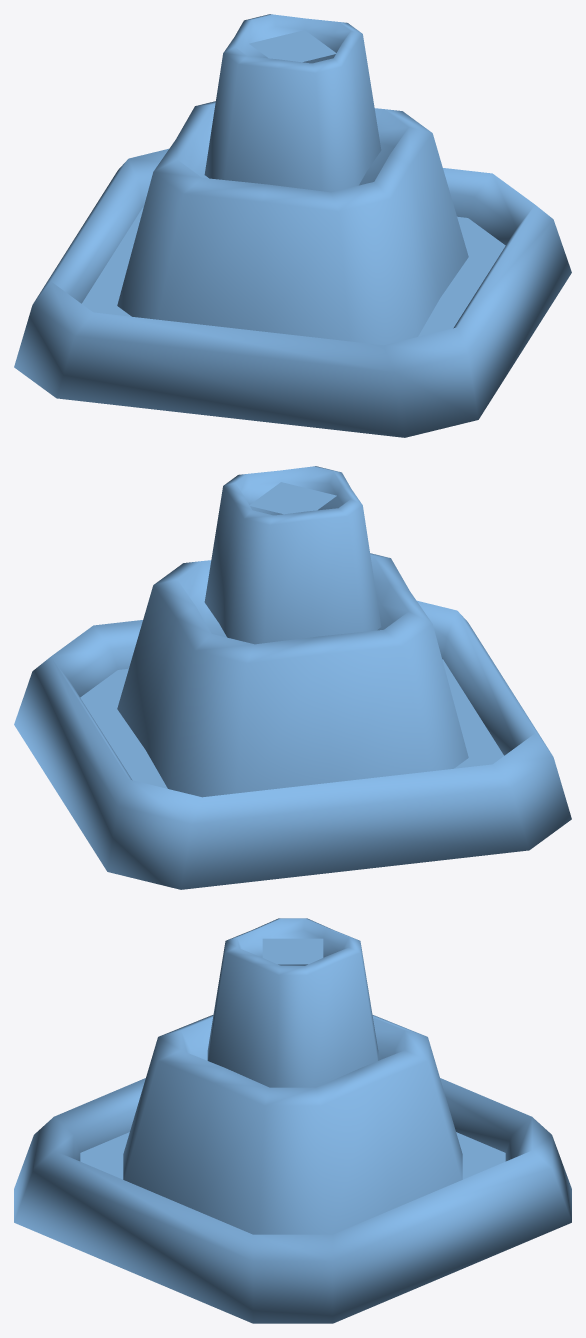
The model's file is fuente.fbx.
3 renders of one model, top to bottom at view 1: azimuth 30°, elevation 25°; view 2: azimuth 150°, elevation 25°; view 3: azimuth 270°, elevation 25°, orthographic. The views are drawn at different scales.
Parts seen in each view (by area): view 1: Cube, Cube.001; view 2: Cube, Cube.001; view 3: Cube, Cube.001.
Part boxes in pixels (x1,y1,x2,y2): Cube: (14,14,571,437); Cube.001: (249,30,336,62); Cube: (14,466,571,889); Cube.001: (249,482,336,514); Cube: (14,918,571,1323); Cube.001: (262,938,323,964).
Size of the model in its own units: 254 by 132 by 254.
